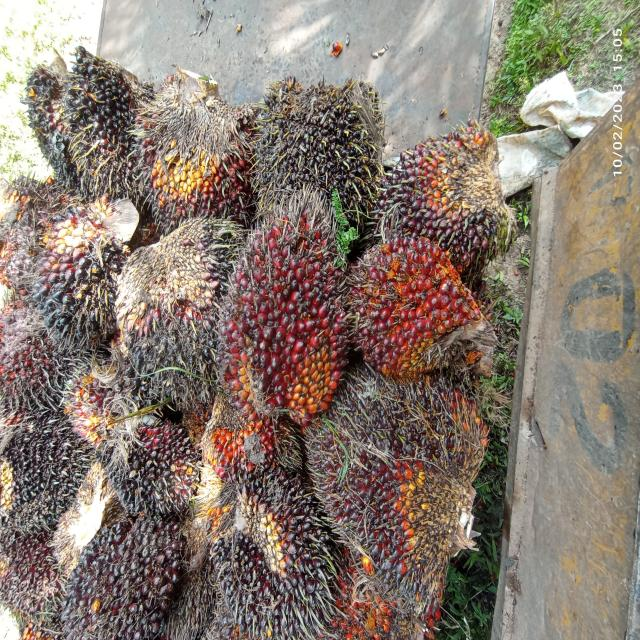fraksi 00: (93, 209, 260, 414), (45, 450, 196, 635), (24, 34, 167, 192), (370, 118, 514, 270), (211, 476, 339, 632), (131, 90, 268, 235), (23, 191, 136, 362), (250, 77, 392, 211), (0, 412, 92, 526), (104, 413, 202, 519)
fraksi 1: (285, 346, 496, 602)
fraksi 3: (203, 193, 363, 430), (336, 222, 500, 390), (0, 314, 90, 411)
fraksi 4: (201, 389, 280, 477)
